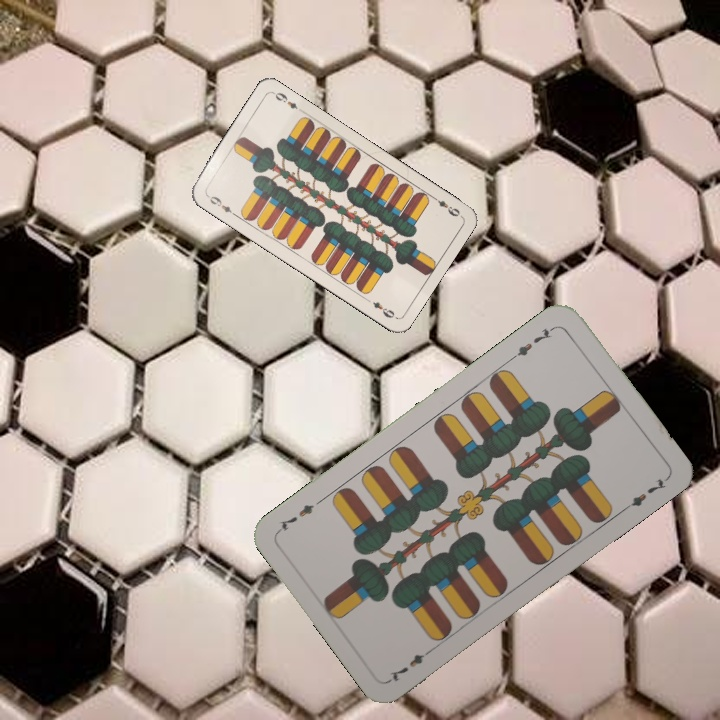E7: (508, 321, 559, 362), (385, 644, 436, 685)
E9: (203, 191, 239, 218), (427, 192, 463, 219)
